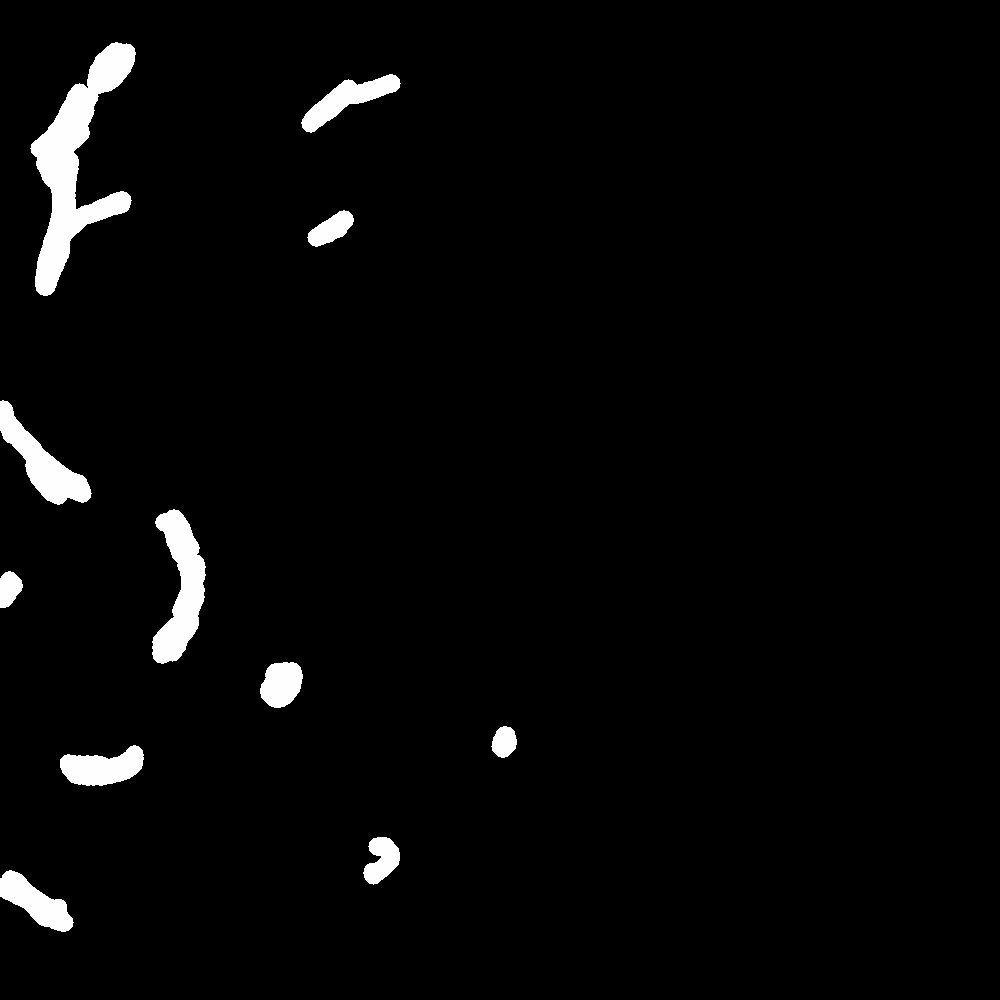illegal: (29, 14, 181, 298), (152, 494, 208, 672), (306, 56, 412, 131), (58, 739, 140, 786), (1, 871, 66, 926), (1, 290, 18, 345), (314, 219, 347, 245), (1, 577, 15, 613)
